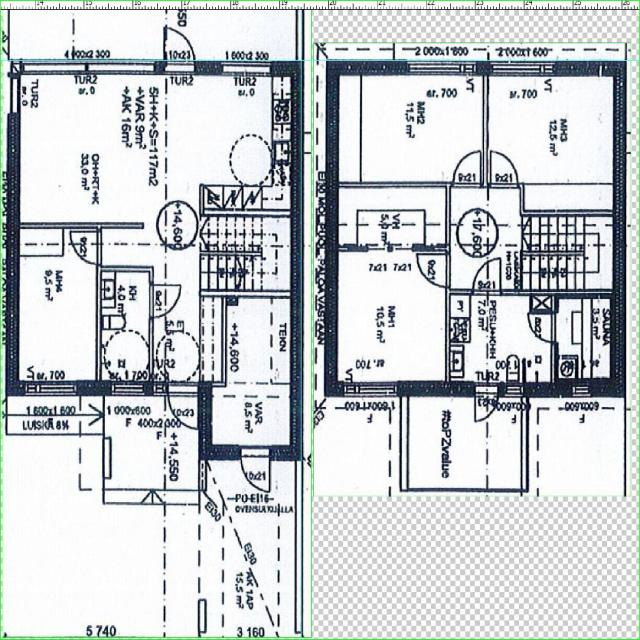door: (164, 27, 194, 76), (240, 445, 270, 493), (168, 381, 197, 430), (415, 254, 450, 288), (68, 232, 101, 265), (490, 150, 518, 188), (473, 258, 501, 296), (149, 285, 181, 316), (454, 151, 481, 187), (476, 382, 498, 424), (528, 314, 558, 341)
